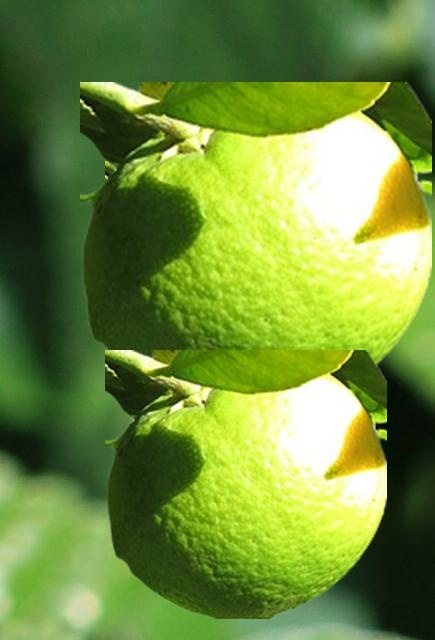dalandan: (80, 82, 430, 366), (105, 350, 385, 617)
